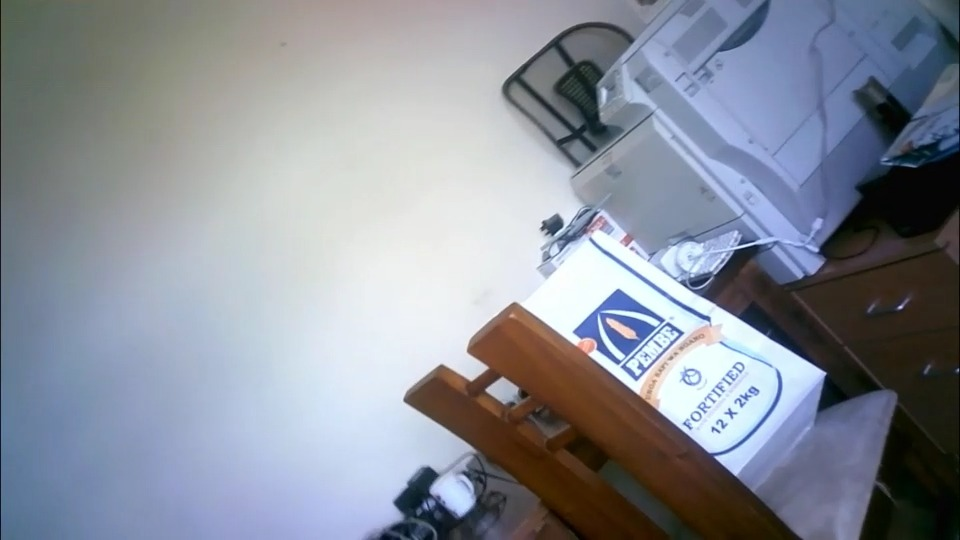wheat_flour_blue_label: (527, 234, 824, 508)
